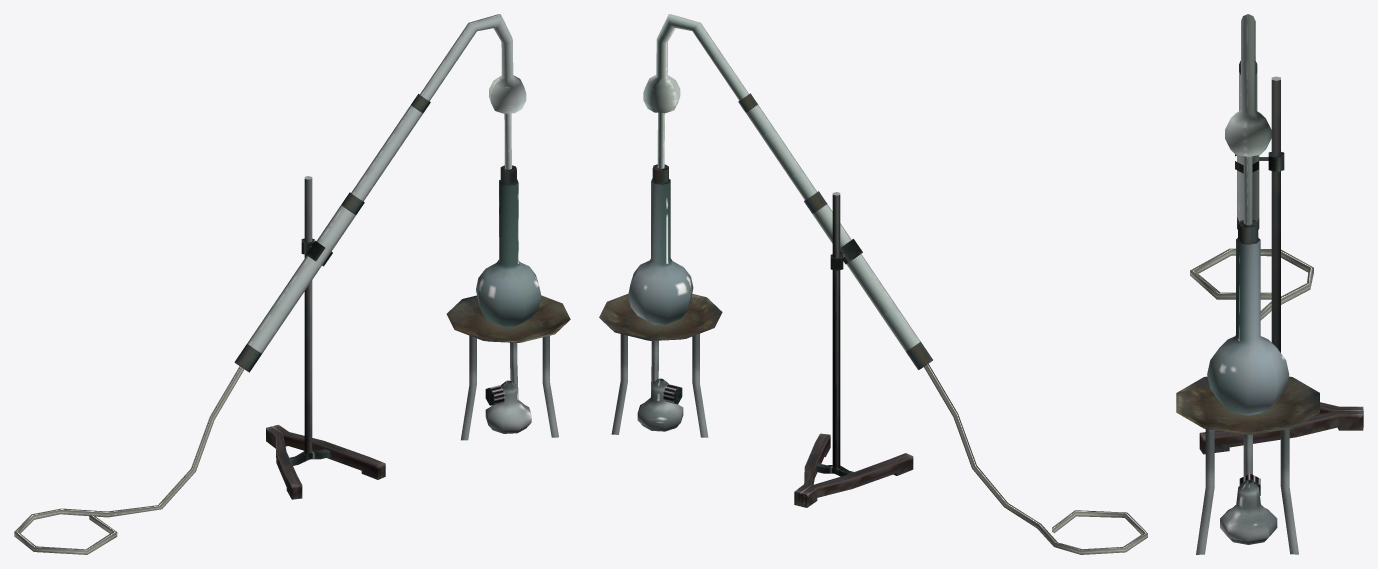
Rendered from tube_stand.fbx.
3 views of the same model, side by side, from view 1: azimuth 30°, elevation 25°; view 2: azimuth 150°, elevation 25°; view 3: azimuth 270°, elevation 25° (orthographic). The views are drawn at different scales.
Parts seen in each view (by area): view 1: mesh_1, mesh_0; view 2: mesh_1, mesh_0; view 3: mesh_0, mesh_1.
Part boxes in pixels (x1,y1,x2,y2): mesh_1: [14, 14, 541, 554]; mesh_0: [234, 94, 570, 499]; mesh_1: [628, 14, 1147, 554]; mesh_0: [599, 93, 932, 507]; mesh_0: [1176, 60, 1363, 554]; mesh_1: [1190, 14, 1313, 415].
Bounding box in the file's own units: 129 × 95.48 × 32.16.
2 materials, 2 textured.
